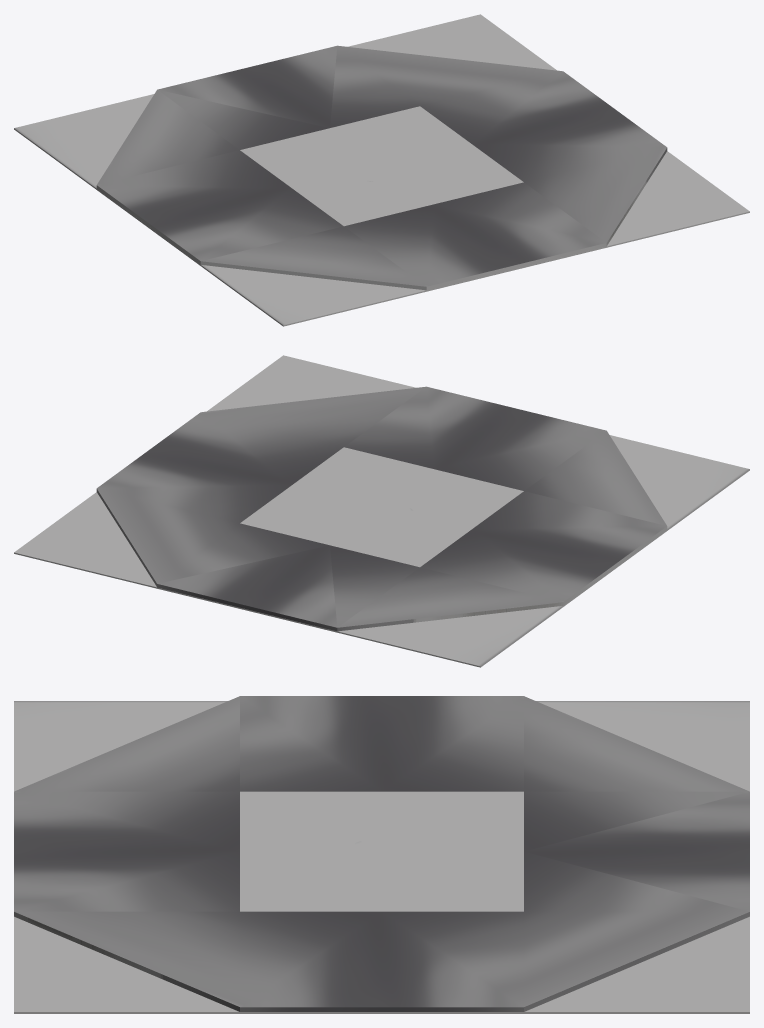
Rendered from Building_Place_Hex.fbx.
3 renders of one model, top to bottom at view 1: azimuth 30°, elevation 25°; view 2: azimuth 150°, elevation 25°; view 3: azimuth 270°, elevation 25°, orthographic. The views are drawn at different scales.
Visible parts, largest first — view 1: Road_10X38, Road_10X63; view 2: Road_10X38, Road_10X63; view 3: Road_10X38, Road_10X63.
Boxes of the visible parts, bbox=[...] form: Road_10X38: bbox=[96, 45, 667, 290]; Road_10X63: bbox=[14, 14, 749, 326]; Road_10X38: bbox=[96, 386, 667, 631]; Road_10X63: bbox=[14, 355, 749, 667]; Road_10X38: bbox=[14, 696, 749, 1011]; Road_10X63: bbox=[14, 701, 749, 1013].
Size of the model in its own units: 1000 by 10.03 by 1000.
